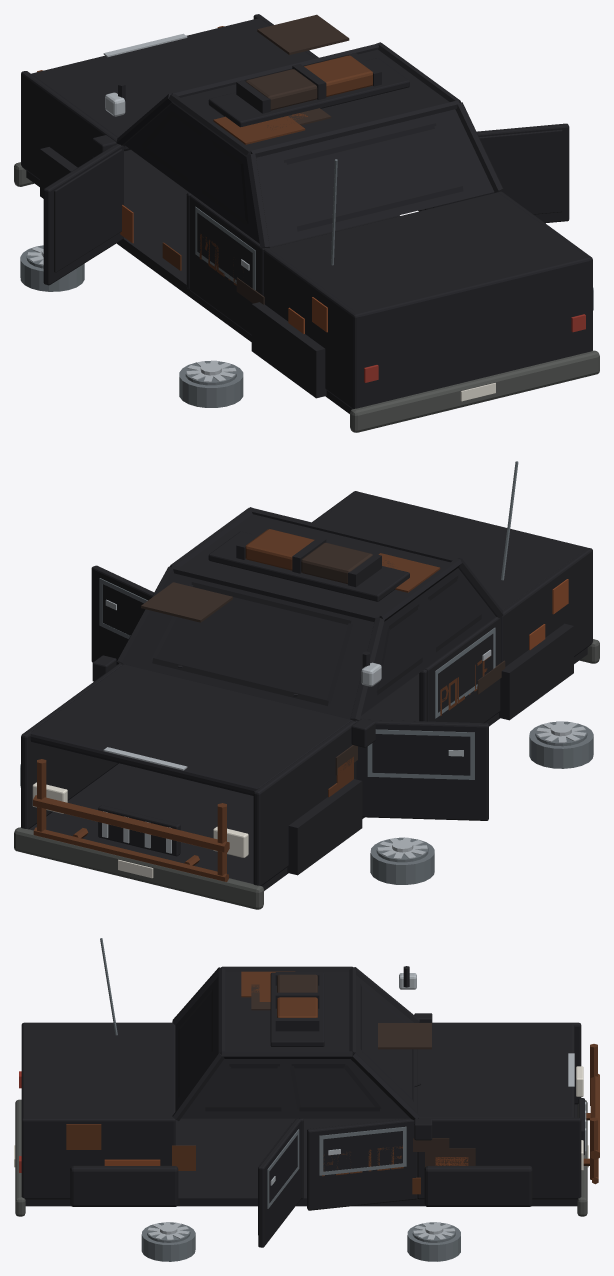
File: police_car_burnt.glb
3 renders of one model, top to bottom at view 1: azimuth 30°, elevation 25°; view 2: azimuth 150°, elevation 25°; view 3: azimuth 270°, elevation 25°, orthographic. The views are drawn at different scales.
Parts seen in each view (by area): view 1: police_car_burnt; view 2: police_car_burnt; view 3: police_car_burnt.
Boxes of the visible parts, bbox=[...] form: police_car_burnt: bbox=[14, 14, 599, 432]; police_car_burnt: bbox=[14, 461, 599, 909]; police_car_burnt: bbox=[14, 938, 599, 1261].
Size of what is drawn, in the model's own units: 3.46 by 1.75 by 4.57.
3 materials, 3 textured.
